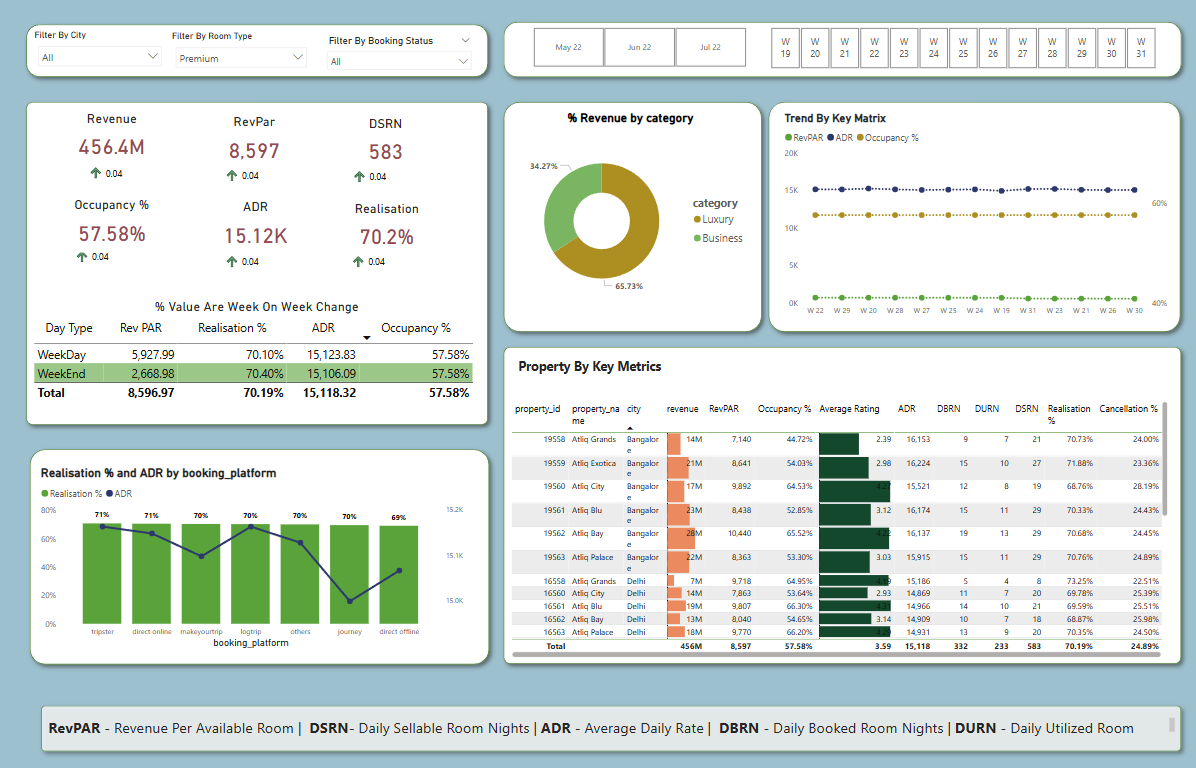

What the dashboard file says about the page in this screenshot:
{"tool":"powerbi","page":{"name":"Final Hospitality Dashboard","canvas":[1780,1200],"ordinal":0},"visuals":[{"type":"shape","box":[736.2,523.8,1027.5,492.5],"z":0},{"type":"shape","box":[32.5,675,703.8,341.2],"z":1000},{"type":"shape","box":[1130,160,633.3,363.3],"z":2000},{"type":"shape","box":[736.7,160,405,363.3],"z":3000},{"type":"shape","box":[28.8,160,707.5,501.2],"z":4000},{"type":"shape","box":[736,40,1028,104],"z":5000},{"type":"shape","box":[28.8,45,707.5,100],"z":6000},{"type":"tableEx","fields":{"Values":["dim_hotels.property_id","dim_hotels.property_name","dim_hotels.city","key_measures.revenue","key_measures.RevPAR","key_measures.Occupancy %","key_measures.Average Rating","key_measures.ADR","key_measures.DBRN","key_measures.DURN","key_measures.DSRN","key_measures.Realisation %"]},"box":[753.8,610,985,390],"z":7000},{"type":"slicer","title":"Filter By City","fields":{"Values":["dim_hotels.city"]},"box":[46.7,62.3,203.3,65],"z":8000},{"type":"slicer","title":"Filter By Room Type","fields":{"Values":["dim_rooms.room_class"]},"box":[250,65,215,62.5],"z":9000},{"type":"slicer","fields":{"Values":["dim_date.mmm yy"]},"box":[765.6,54.4,364.4,71.1],"z":10000},{"type":"slicer","fields":{"Values":["dim_date.week no"]},"box":[1119,54,620,73],"z":11000},{"type":"donutChart","title":" % Revenue by category","fields":{"Category":["dim_hotels.category"],"Y":["key_measures.revenue"]},"box":[753.3,183.3,365,306.7],"z":12000},{"type":"lineChart","title":"Trend By Key Matrix","fields":{"Category":["dim_date.week no"],"Y2":["key_measures.Occupancy %"],"Y":["key_measures.RevPAR","key_measures.ADR"]},"box":[1160,183.3,578.3,313.3],"z":13000},{"type":"lineStackedColumnComboChart","title":"Realisation % and ADR by booking_platform","fields":{"Category":["fact_bookings.booking_platform"],"Y":["key_measures.Realisation %"],"Y2":["key_measures.ADR"]},"box":[55,711.2,640,276.2],"z":14000},{"type":"tableEx","title":"% Value Are Week On Week Change","fields":{"Values":["dim_date.day_type","key_measures.RevPAR","key_measures.Realisation %","key_measures.ADR","key_measures.Occupancy %"]},"box":[45,463.3,673.3,178.3],"z":15000},{"type":"tableEx","fields":{"Values":["key_measures.Revenue WoW change %"]},"box":[122.5,231.2,127.5,73.8],"z":16000},{"type":"card","title":"Revenue","fields":{"Values":["key_measures.revenue"]},"box":[102.5,183.8,128,82],"z":17000},{"type":"tableEx","fields":{"Values":["key_measures.Revenue WoW change %"]},"box":[511.2,363.5,126.2,73.8],"z":18000},{"type":"tableEx","fields":{"Values":["key_measures.Revenue WoW change %"]},"box":[324.9,363.5,127.5,73.8],"z":19000},{"type":"tableEx","fields":{"Values":["key_measures.Revenue WoW change %"]},"box":[102.4,356.6,127.5,71.9],"z":20000},{"type":"tableEx","fields":{"Values":["key_measures.Revenue WoW change %"]},"box":[513.3,237.5,126.7,70.8],"z":21000},{"type":"card","title":"DSRN","fields":{"Values":["key_measures.DSRN"]},"box":[509.2,190.8,128,82],"z":22000},{"type":"card","title":"Occupancy %","fields":{"Values":["key_measures.Occupancy %"]},"box":[101.5,310.8,128,82],"z":23000},{"type":"card","title":"ADR","fields":{"Values":["key_measures.ADR"]},"box":[315.2,316,128,82],"z":24000},{"type":"card","title":"Realisation","fields":{"Values":["key_measures.Realisation %"]},"box":[510.1,317.1,128,82],"z":25000},{"type":"tableEx","fields":{"Values":["key_measures.Revenue WoW change %"]},"box":[325,235.8,120,73.3],"z":26000},{"type":"card","title":"RevPar","fields":{"Values":["key_measures.RevPAR"]},"box":[314.3,188.5,128,82],"z":27000},{"type":"textbox","box":[765,546.2,418.8,45],"z":28000},{"type":"slicer","fields":{"Values":["fact_bookings.booking_status"]},"box":[475,66.2,235,61.2],"z":29000},{"type":"shape","box":[50,1056,1714,90],"z":30000},{"type":"textbox","box":[66,1080,1682,44],"z":31000}]}

Visuals, with their boxes on the page's 1780x1200 design canvas (x1, y1, x2, y2). These are canvas units, not pixel positions in the 1196x768 screenshot, which may show the page scaled, cropped or inside an application window:
shape: 736, 524, 1764, 1016
shape: 32, 675, 736, 1016
shape: 1130, 160, 1763, 523
shape: 737, 160, 1142, 523
shape: 29, 160, 736, 661
shape: 736, 40, 1764, 144
shape: 29, 45, 736, 145
tableEx - dim_hotels.property_id x dim_hotels.property_name: 754, 610, 1739, 1000
"Filter By City" slicer: 47, 62, 250, 127
"Filter By Room Type" slicer: 250, 65, 465, 128
slicer - dim_date.mmm yy: 766, 54, 1130, 126
slicer - dim_date.week no: 1119, 54, 1739, 127
" % Revenue by category" donutChart: 753, 183, 1118, 490
"Trend By Key Matrix" lineChart: 1160, 183, 1738, 497
"Realisation % and ADR by booking_platform" lineStackedColumnComboChart: 55, 711, 695, 987
"% Value Are Week On Week Change" tableEx: 45, 463, 718, 642
tableEx - key_measures.Revenue WoW change %: 122, 231, 250, 305
"Revenue" card: 102, 184, 230, 266
tableEx - key_measures.Revenue WoW change %: 511, 364, 637, 437
tableEx - key_measures.Revenue WoW change %: 325, 364, 452, 437
tableEx - key_measures.Revenue WoW change %: 102, 357, 230, 428
tableEx - key_measures.Revenue WoW change %: 513, 238, 640, 308
"DSRN" card: 509, 191, 637, 273
"Occupancy %" card: 102, 311, 230, 393
"ADR" card: 315, 316, 443, 398
"Realisation" card: 510, 317, 638, 399
tableEx - key_measures.Revenue WoW change %: 325, 236, 445, 309
"RevPar" card: 314, 188, 442, 270
textbox: 765, 546, 1184, 591
slicer - fact_bookings.booking_status: 475, 66, 710, 127
shape: 50, 1056, 1764, 1146
textbox: 66, 1080, 1748, 1124
